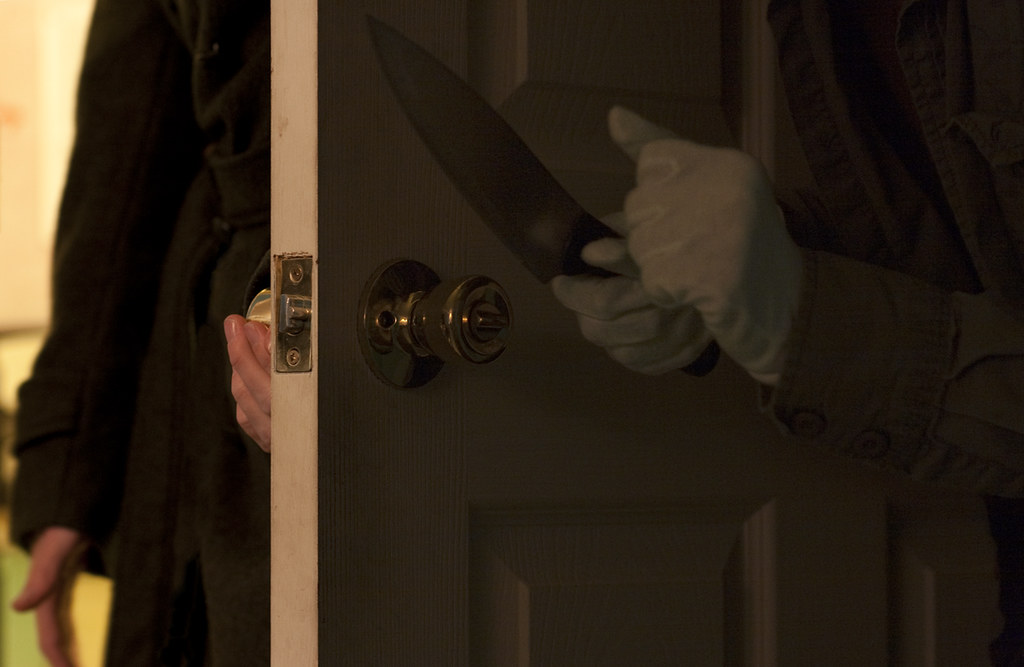knife: (359, 6, 730, 416)
